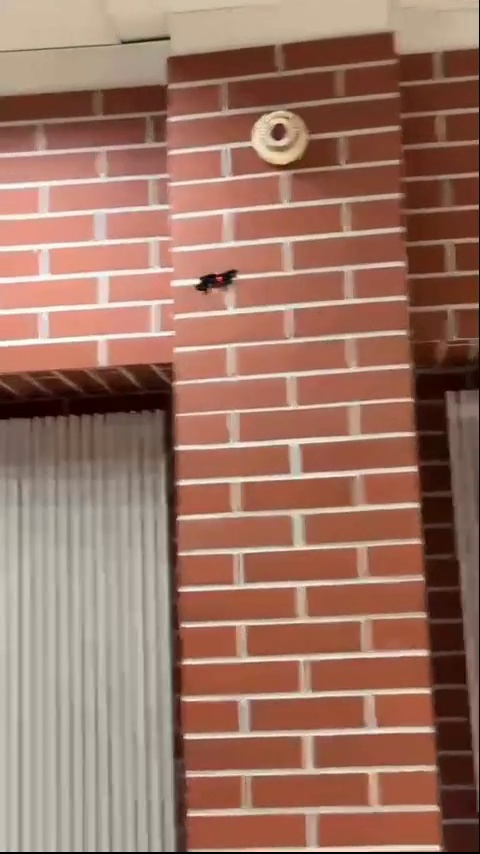drone: (197, 267, 240, 297)
